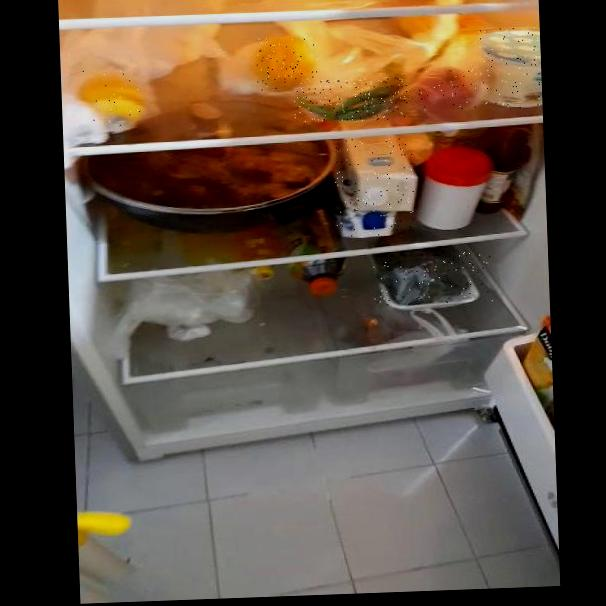broccoli: (372, 251, 496, 307)
green chilies: (293, 76, 409, 123)
lemon: (81, 67, 147, 127), (256, 36, 321, 92)
milk: (334, 137, 416, 237)
tomato: (415, 69, 481, 111)
yoghurt: (476, 27, 541, 109)
